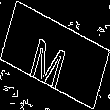M_N: (33, 23, 77, 87)
